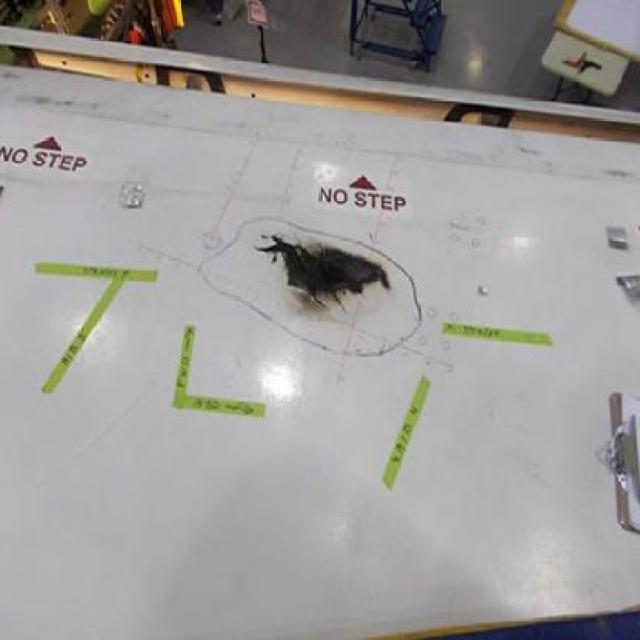crack: (253, 233, 393, 311)
